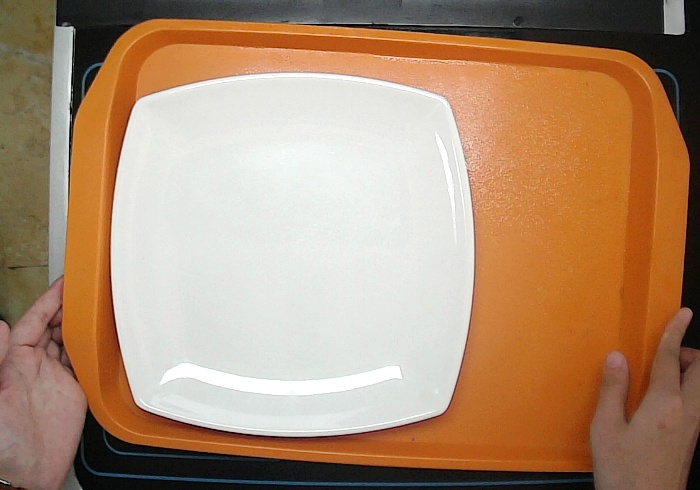ZNLD-Bai_Fang_Pan: (110, 72, 475, 437)
